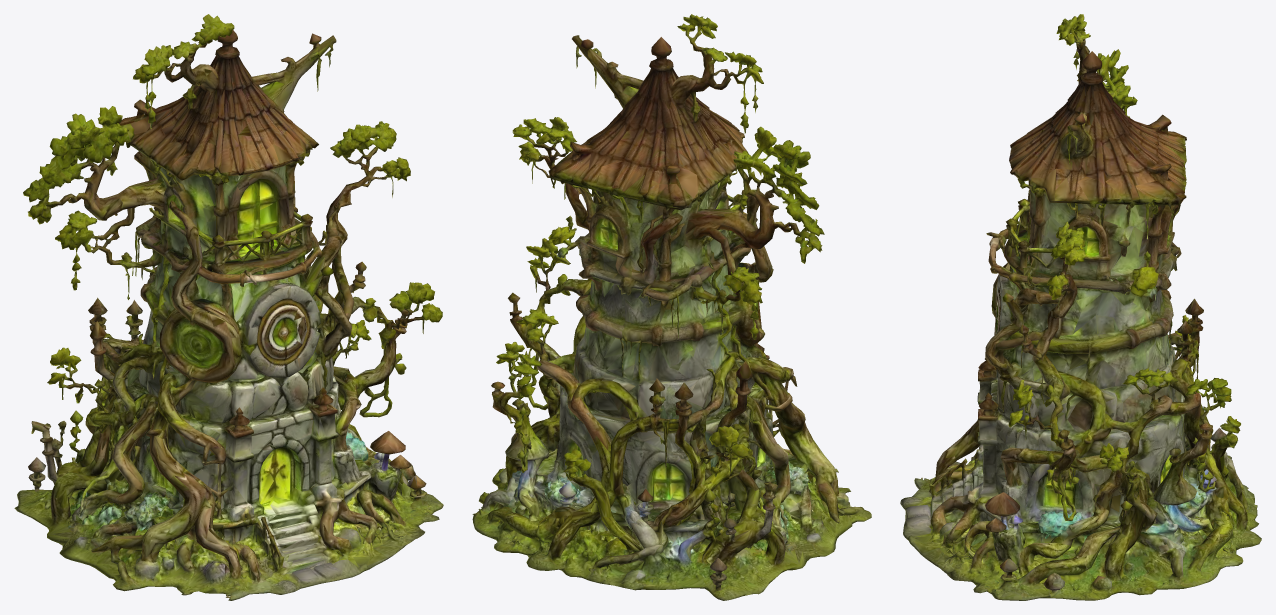
The model's file is Vinebound_Clocktower.glb.
3 renders of one model, left to right at view 1: azimuth 30°, elevation 25°; view 2: azimuth 150°, elevation 25°; view 3: azimuth 270°, elevation 25°, orthographic. The views are drawn at different scales.
Visible parts, largest first — view 1: Vinebound_Clocktower; view 2: Vinebound_Clocktower; view 3: Vinebound_Clocktower.
Part boxes in pixels (box(x1,y1,x2,y2)): Vinebound_Clocktower: box(14, 14, 443, 600); Vinebound_Clocktower: box(472, 14, 871, 600); Vinebound_Clocktower: box(900, 14, 1261, 600).
Bounding box in the file's own units: 1.39 × 1.9 × 1.26.
Materials: 1 (1 with a texture image).
